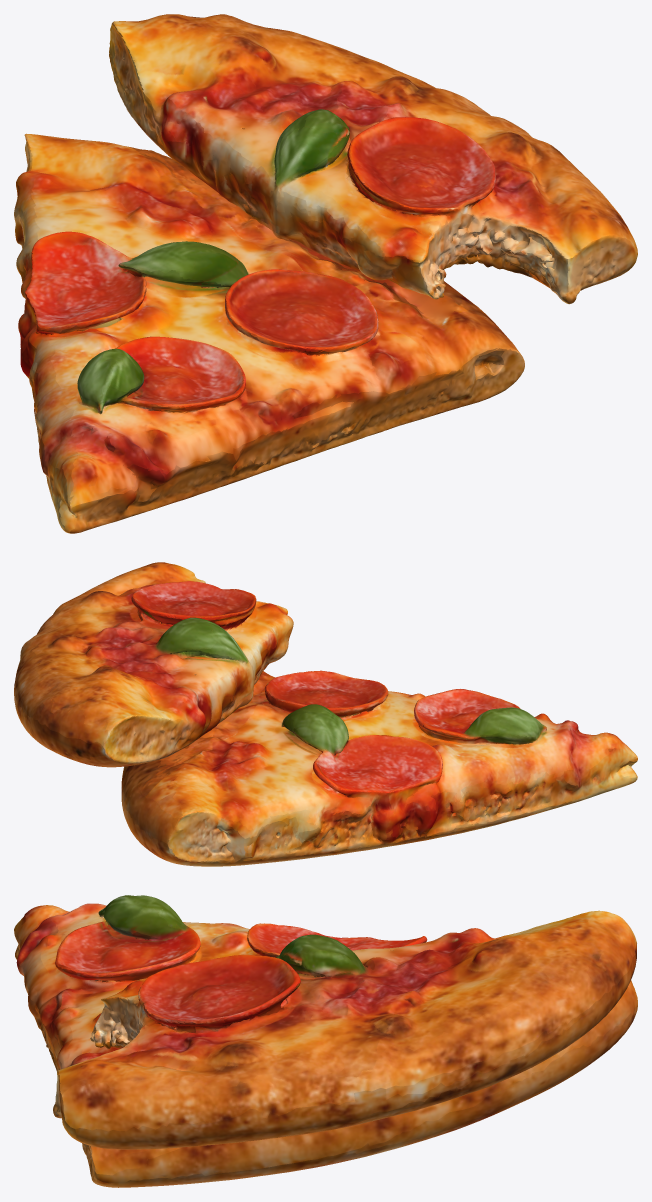
3 views of the same model, one above another, from view 1: azimuth 30°, elevation 25°; view 2: azimuth 150°, elevation 25°; view 3: azimuth 270°, elevation 25° (orthographic). The views are drawn at different scales.
Parts seen in each view (by area): view 1: geometry_0; view 2: geometry_0; view 3: geometry_0.
Part boxes in pixels (<box>): geometry_0: <box>14,14,637,533</box>; geometry_0: <box>14,562,637,866</box>; geometry_0: <box>14,895,637,1187</box>.
Bounding box in the file's own units: 0.28 × 0.1014 × 0.2483.
Materials: 1 (1 with a texture image).
